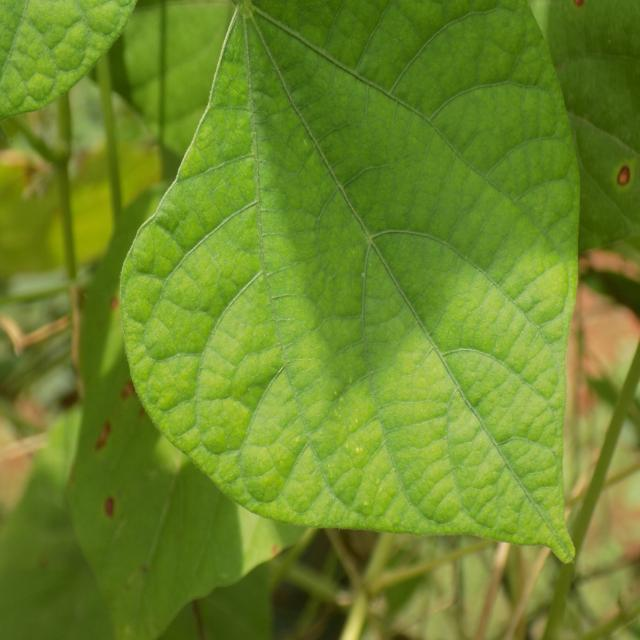Dolicos bean_healthy: (120, 0, 582, 568)
